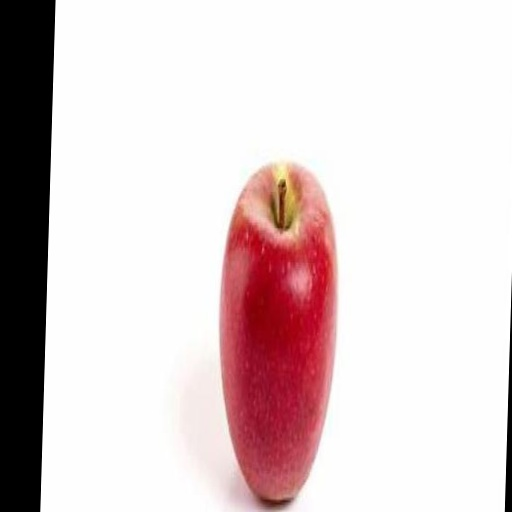fruit: (220, 164, 337, 501)
